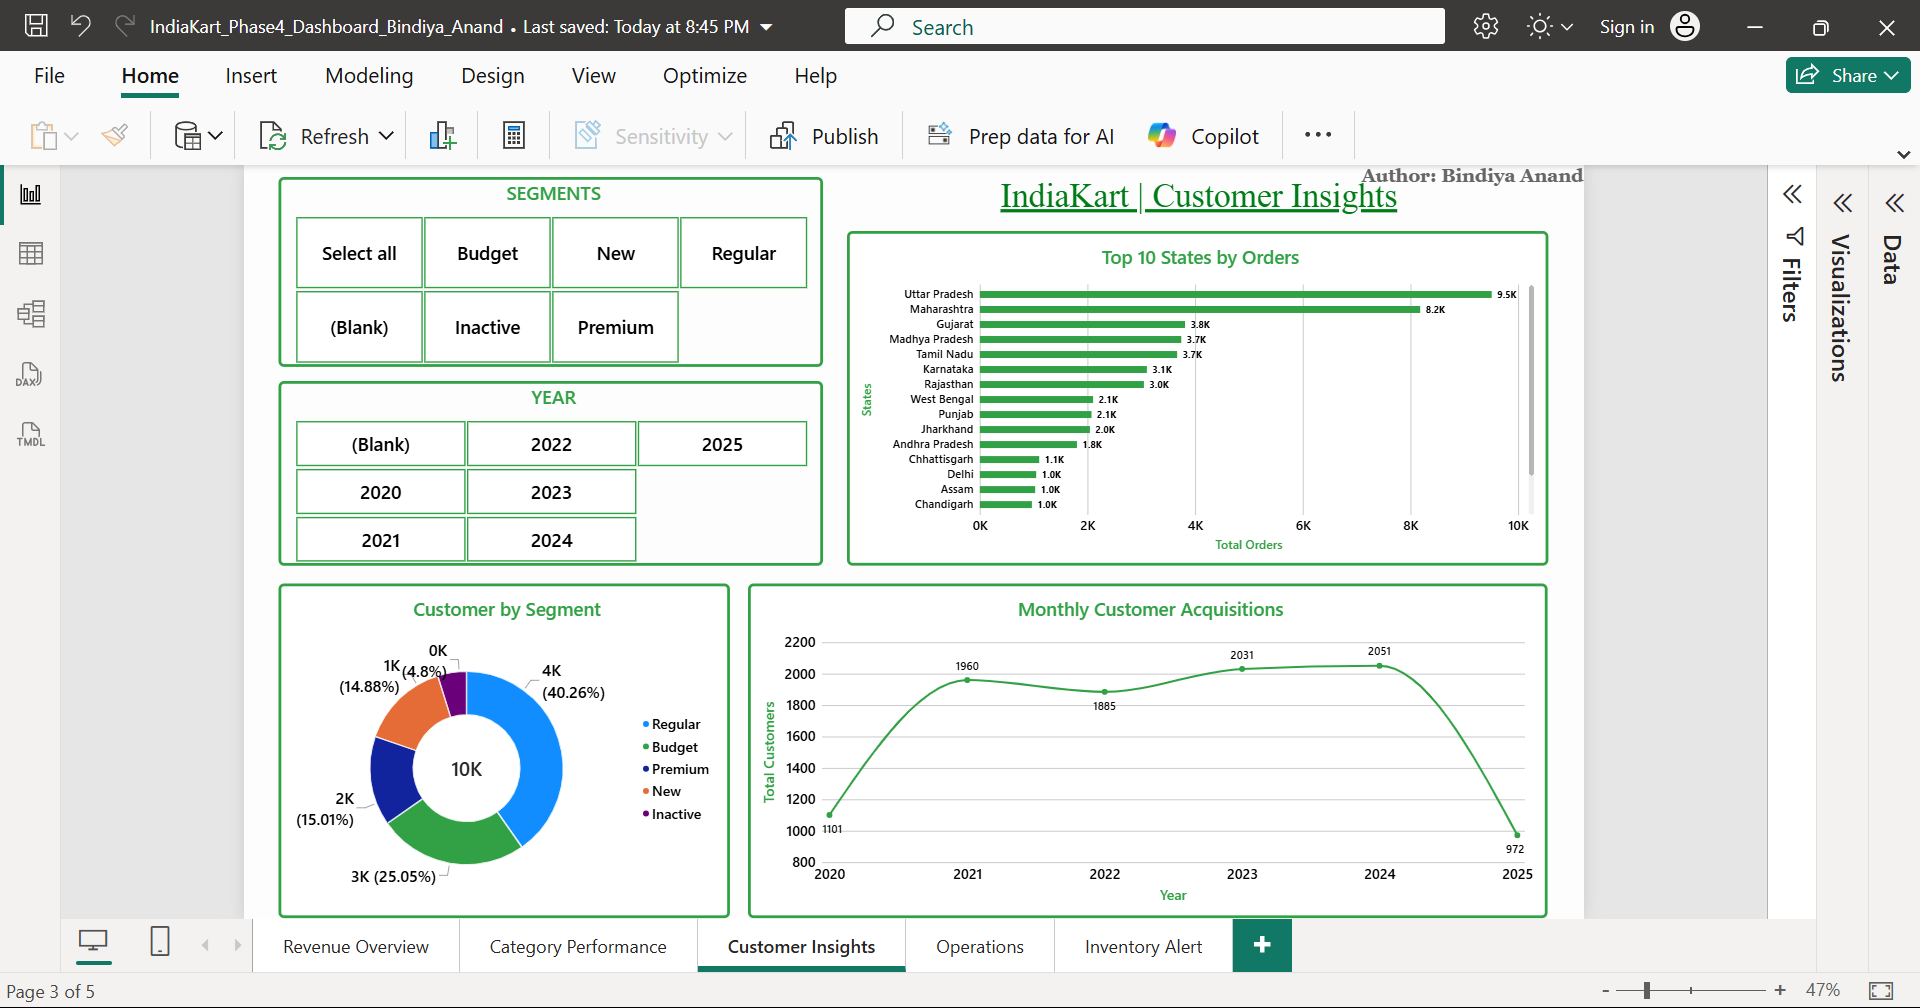

The dashboard page shown, as its layout file describes it:
{"tool":"powerbi","page":{"name":"Customer Insights","canvas":[1920,1080],"ordinal":2},"visuals":[{"type":"textbox","box":[1030.7,16.7,672.8,62],"z":0},{"type":"donutChart","title":"Customer by Segment","fields":{"Category":["customers DA.segment"],"Y":["customers DA.Total Customers"]},"box":[50.1,598.9,646.6,479.6],"z":1000},{"type":"clusteredBarChart","title":"Top 10 States by Orders","fields":{"Category":["orders DA.state"],"Y":["orders DA.Total Orders"]},"box":[863.7,95.4,1004.5,479.6],"z":2000},{"type":"slicer","title":"SEGMENTS","fields":{"Values":["customers DA.segment"]},"box":[50.1,16.7,780.2,272],"z":3000},{"type":"lineChart","title":"Monthly Customer Acquisitions","fields":{"Category":["customers DA.registration_date.Variation.Date Hierarchy.Year","customers DA.registration_date.Variation.Date Hierarchy.Month"],"Y":["customers DA.Total Customers"]},"box":[722.9,598.9,1145,479],"z":4000},{"type":"slicer","title":"YEAR","fields":{"Values":["customers DA.registration_date.Variation.Date Hierarchy.Year"]},"box":[50.1,310.2,780.2,264.8],"z":5000}]}

Visuals, with their boxes on the page's 1920x1080 design canvas (x1, y1, x2, y2). These are canvas units, not pixel positions in the 1920x1008 screenshot, which may show the page scaled, cropped or inside an application window:
textbox: 1031 17 1704 79
"Customer by Segment" donutChart: 50 599 697 1078
"Top 10 States by Orders" clusteredBarChart: 864 95 1868 575
"SEGMENTS" slicer: 50 17 830 289
"Monthly Customer Acquisitions" lineChart: 723 599 1868 1078
"YEAR" slicer: 50 310 830 575
